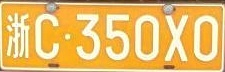C: (35, 14, 59, 59)
